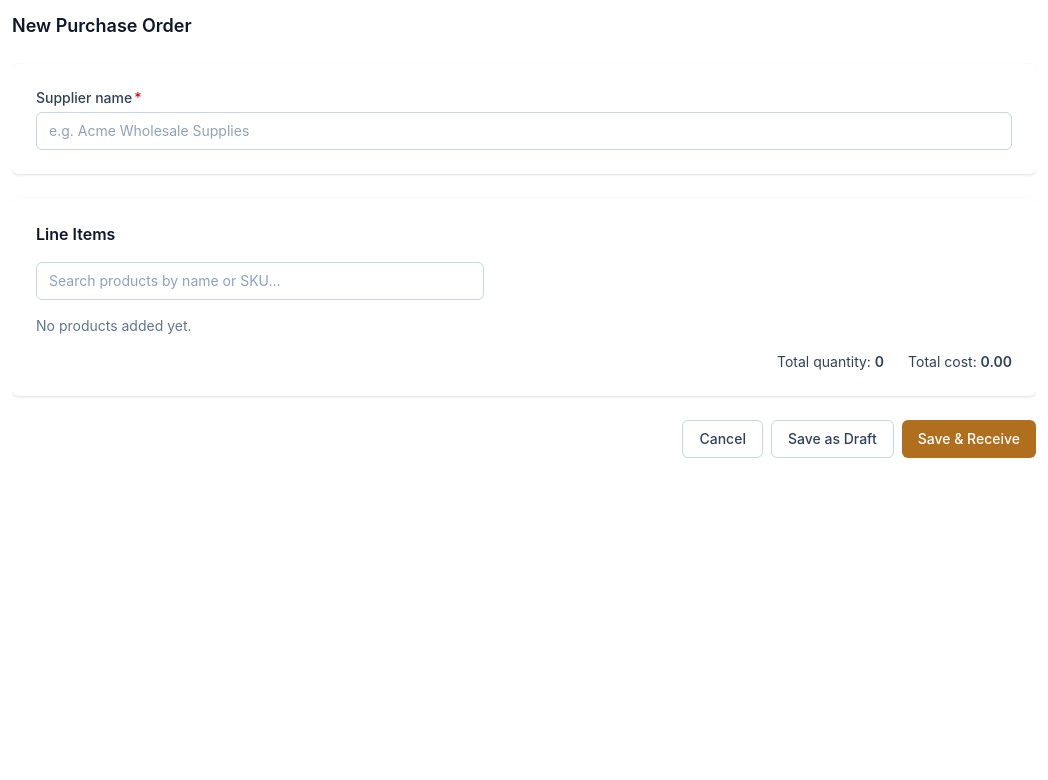
Test: PurchaseOrderBuilderPage › creates a Draft PO and navigates to its detail page
In the field labelled "Supplier name*": (524, 131) [36, 112, 1012, 150], type "Acme Wholesale"
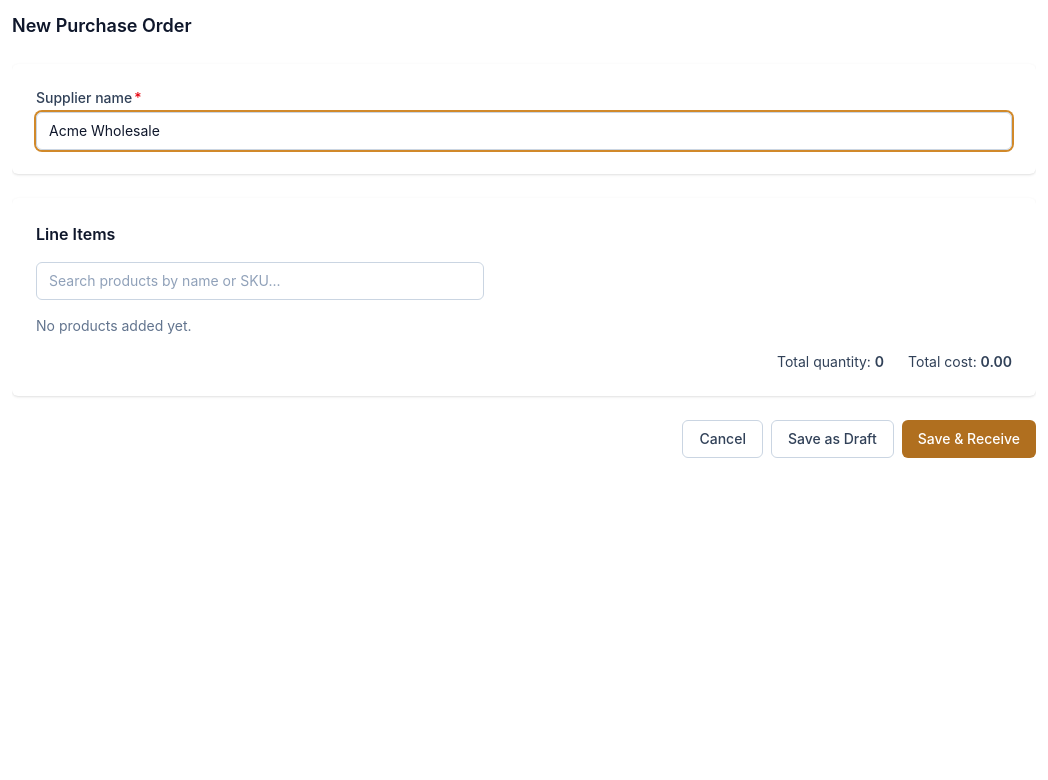
In the search field named "Add product": (260, 281) [36, 262, 484, 300], type "Steel"
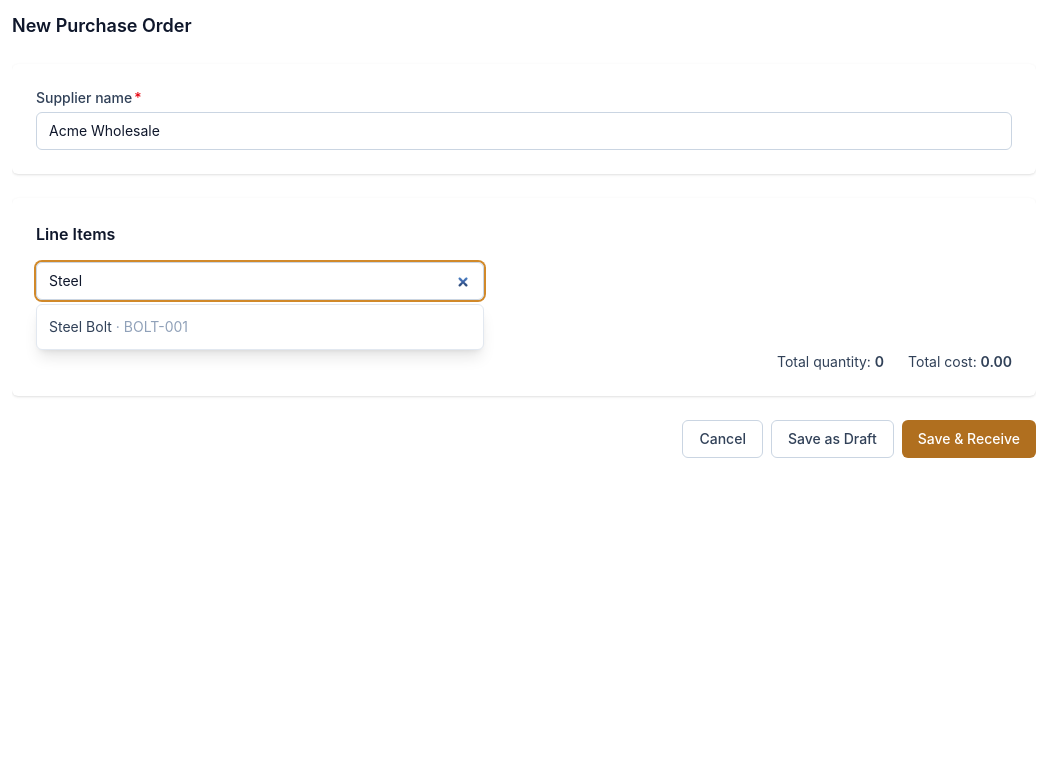
Result: the button "Steel Bolt· BOLT-001" is shown
Click the button "Steel Bolt· BOLT-001": (80, 326) [37, 309, 483, 345]
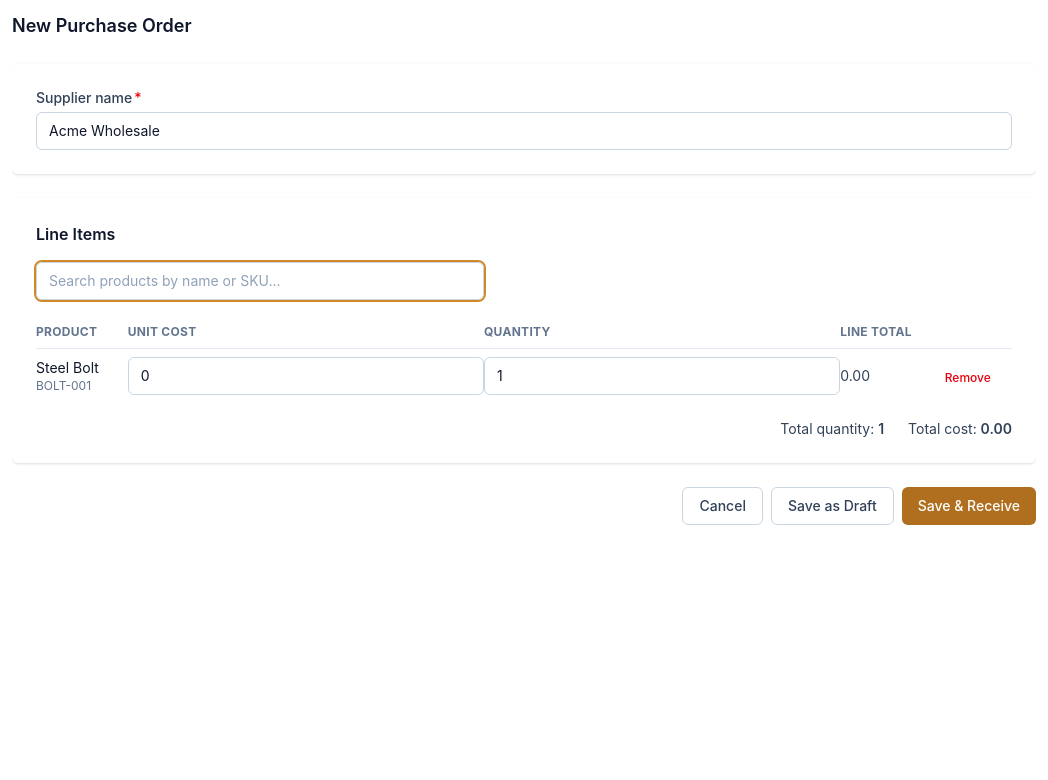
Click the button "Save as Draft": (832, 506) [771, 487, 894, 525]
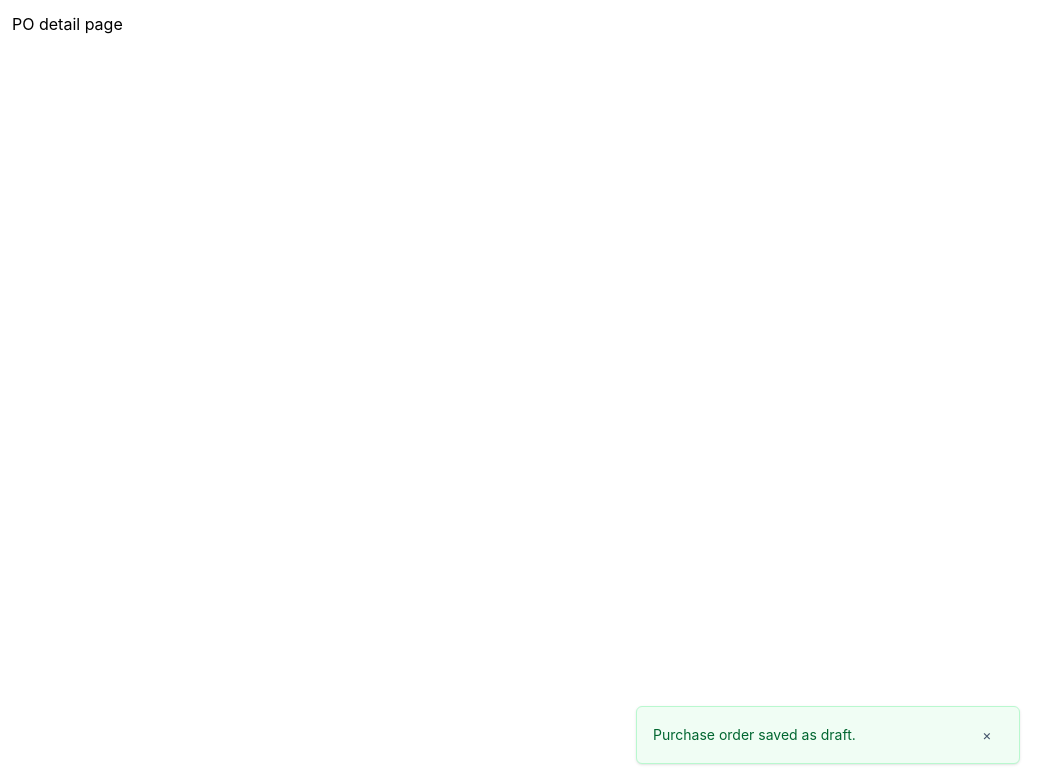
Result: the text "PO detail page" is shown at [12, 14, 123, 34]
